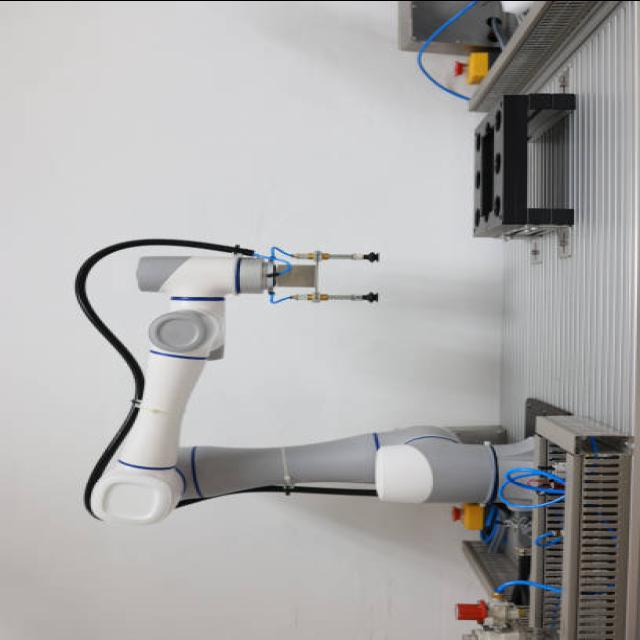Robotic-arm: (79, 246, 492, 526)
